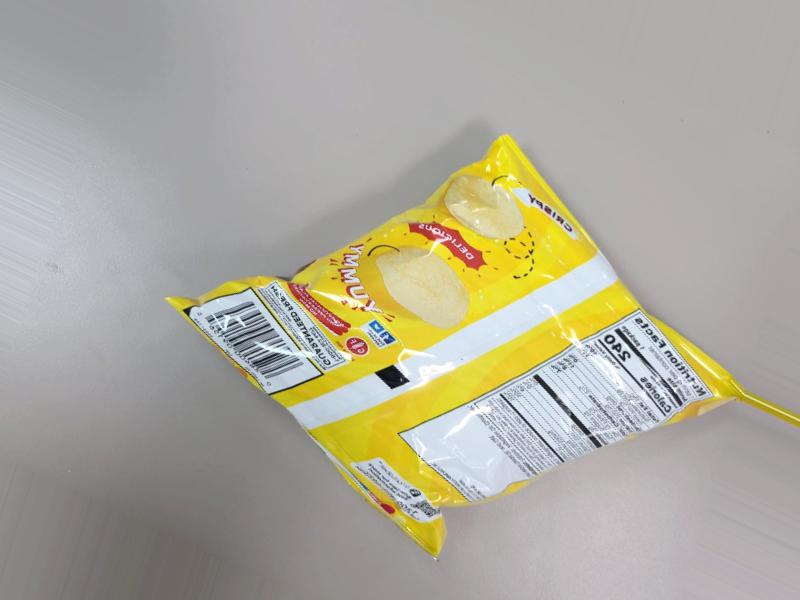lays: (246, 140, 769, 600)
